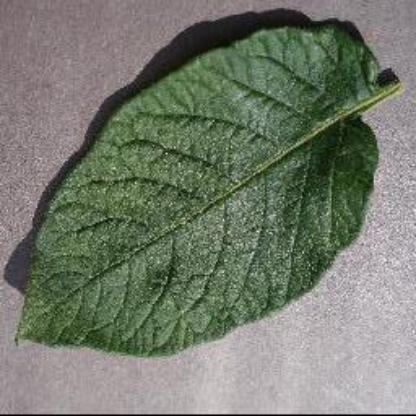Healthy-plant: (10, 19, 404, 356)
